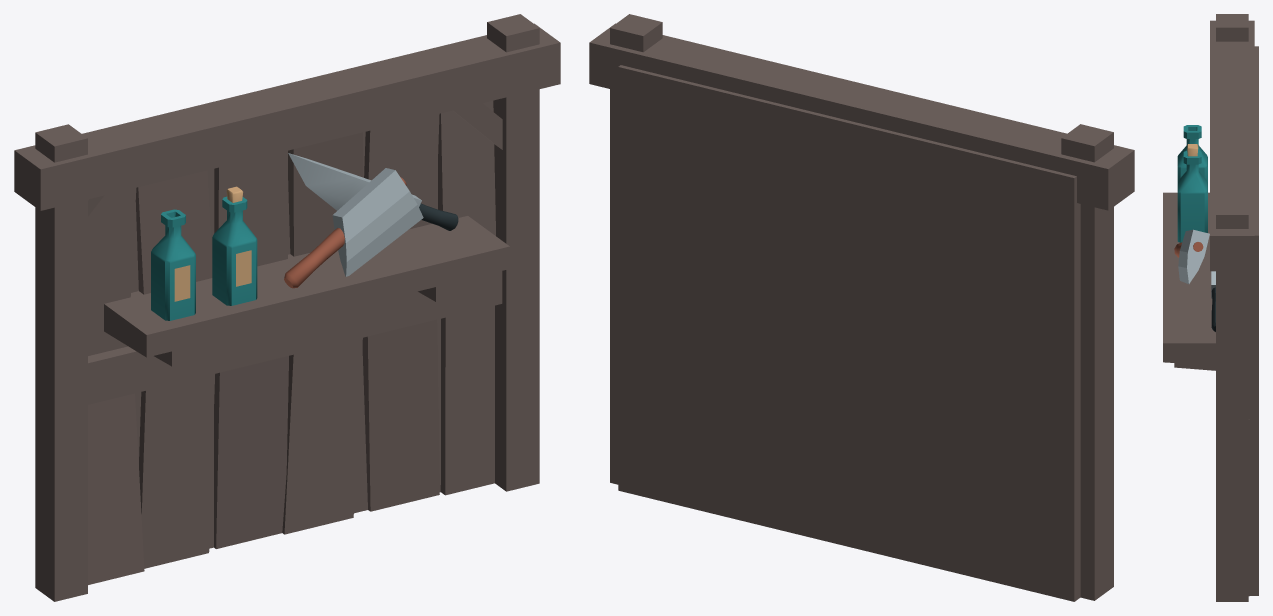
Rendered from butcherwall.gltf.glb.
3 views of the same model, side by side, from view 1: azimuth 30°, elevation 25°; view 2: azimuth 150°, elevation 25°; view 3: azimuth 270°, elevation 25° (orthographic). The views are drawn at different scales.
Visible parts, largest first — view 1: butcherwall; view 2: butcherwall; view 3: butcherwall.
Boxes of the visible parts, x1=… form: butcherwall: x1=14, y1=14, x2=560, y2=601; butcherwall: x1=589, y1=14, x2=1134, y2=601; butcherwall: x1=1163, y1=14, x2=1258, y2=601.
Bounding box in the file's own units: 3.15 × 2.64 × 0.5927.
